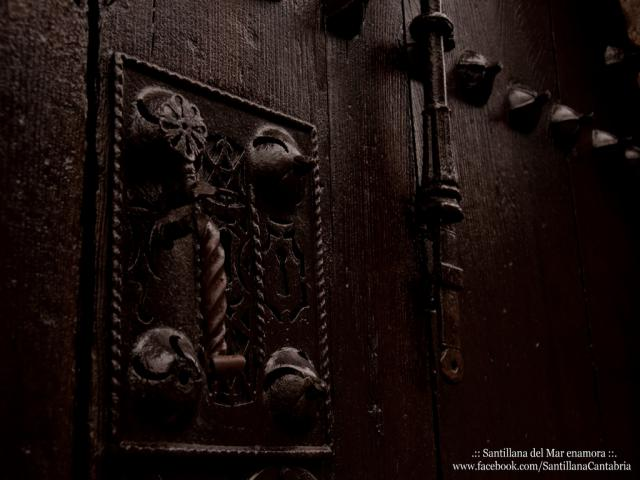Door-handle: (403, 0, 471, 388)
